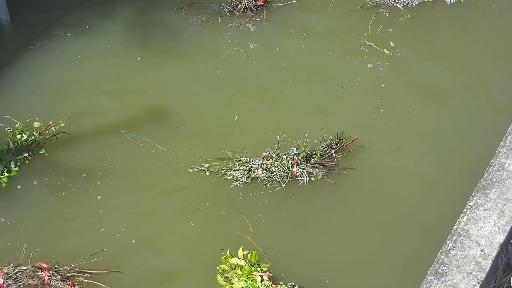twig: (177, 130, 358, 194), (1, 106, 74, 196), (1, 247, 128, 288), (209, 238, 306, 288), (171, 0, 298, 28), (348, 1, 472, 25)
